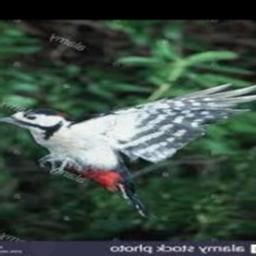Woodpecker: (0, 81, 256, 216)
